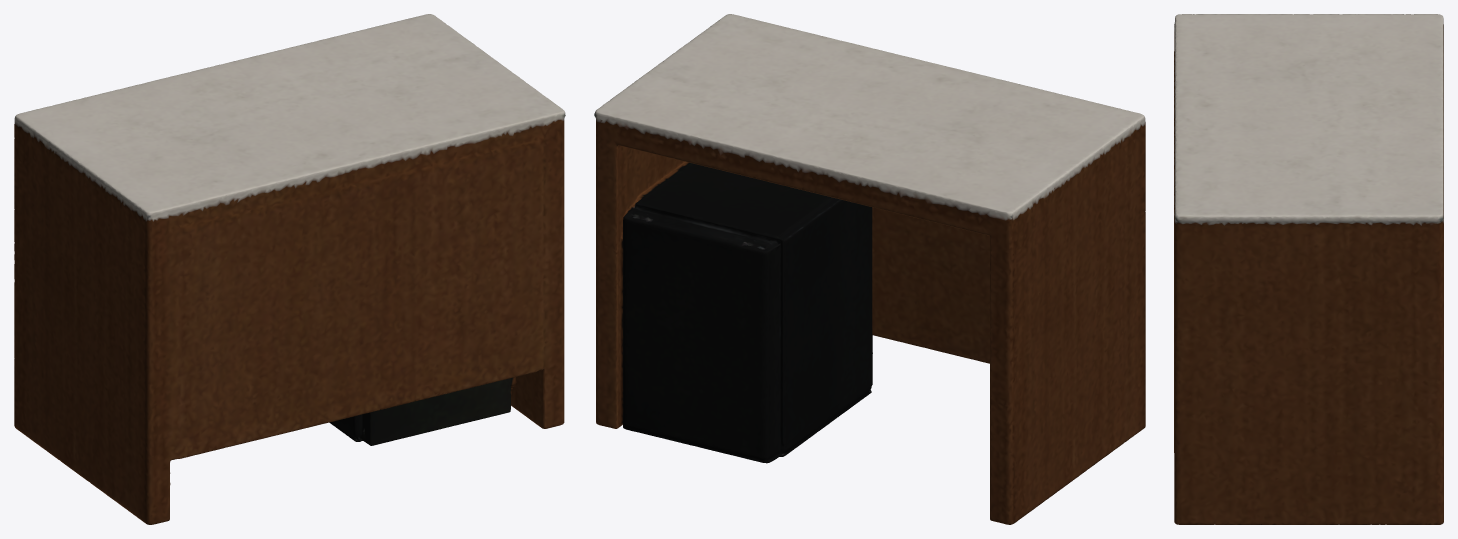
The model's file is desk.glb.
3 views of the same model, side by side, from view 1: azimuth 30°, elevation 25°; view 2: azimuth 150°, elevation 25°; view 3: azimuth 270°, elevation 25° (orthographic).
Bounding box in the file's own units: 0.9992 × 0.7127 × 0.5617.
